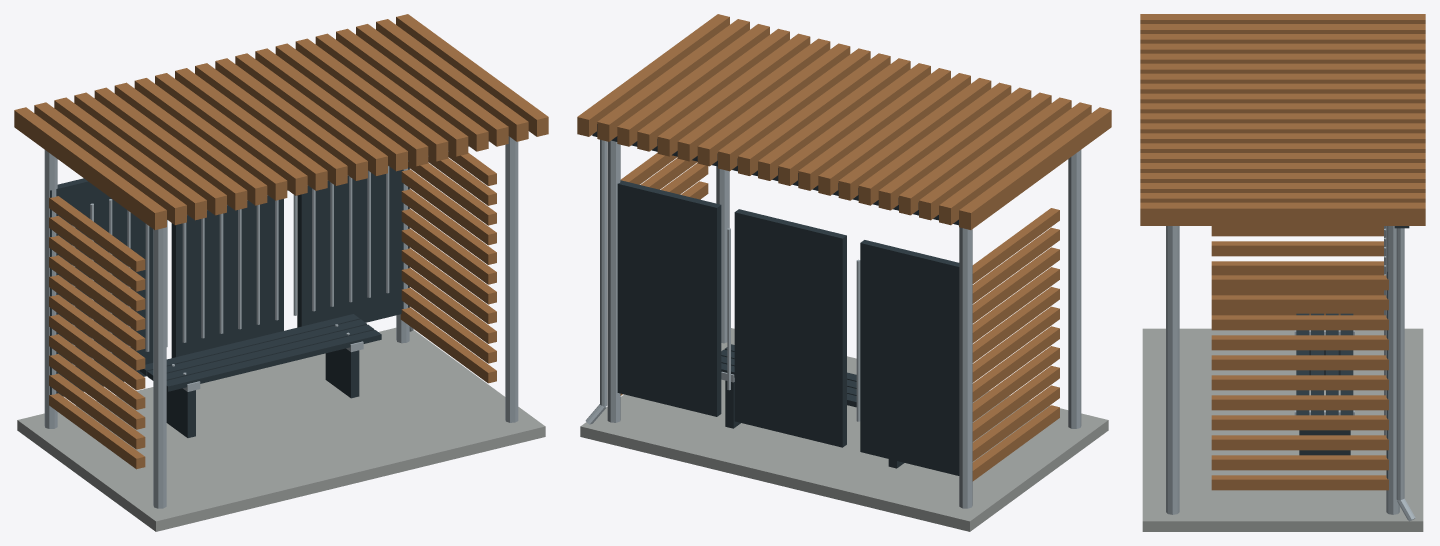
The model's file is b01_louvered_shade_transit_shelter.glb.
The picture shows the model from 3 angles, left to right: view 1: azimuth 30°, elevation 25°; view 2: azimuth 150°, elevation 25°; view 3: azimuth 270°, elevation 25°; orthographic projection.
Visible parts, largest first — view 1: b01_louvered_shade_transit_shelter; view 2: b01_louvered_shade_transit_shelter; view 3: b01_louvered_shade_transit_shelter.
Boxes of the visible parts, <box> form: b01_louvered_shade_transit_shelter: <box>14,14,548,531</box>; b01_louvered_shade_transit_shelter: <box>577,14,1111,531</box>; b01_louvered_shade_transit_shelter: <box>1140,14,1425,531</box>.
Size of the model in its own units: 3.13 by 2.43 by 1.94.
